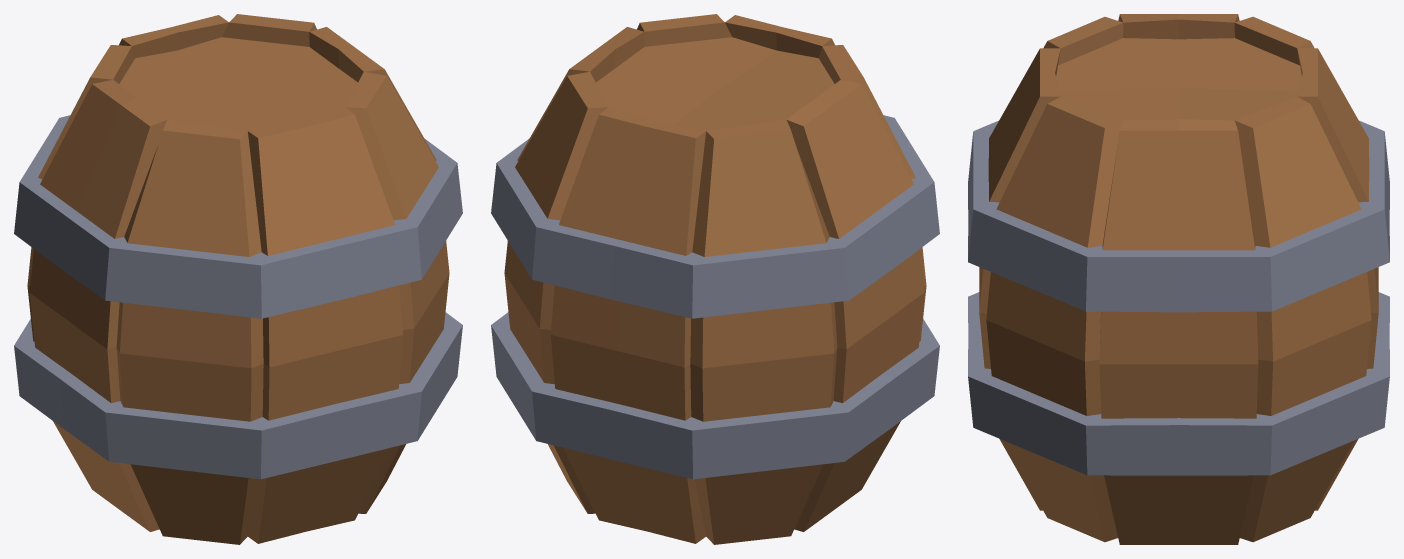
Rendered from Barrel.fbx.
The picture shows the model from 3 angles, left to right: view 1: azimuth 30°, elevation 25°; view 2: azimuth 150°, elevation 25°; view 3: azimuth 270°, elevation 25°; orthographic projection. The views are drawn at different scales.
Visible parts, largest first — view 1: Cube.010; view 2: Cube.010; view 3: Cube.010.
Part boxes in pixels (x1,y1,x2,y2): Cube.010: (14, 14, 462, 544); Cube.010: (491, 14, 939, 544); Cube.010: (968, 14, 1389, 544).
Bounding box in the file's own units: 223 × 245 × 223.
